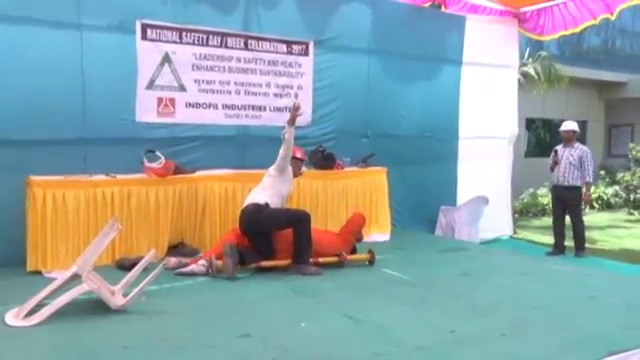helmet: (287, 143, 307, 162), (558, 119, 580, 133)
helmet_on: (287, 142, 307, 177), (558, 119, 580, 146)
person: (222, 108, 330, 279), (160, 213, 367, 276), (544, 119, 593, 261)
